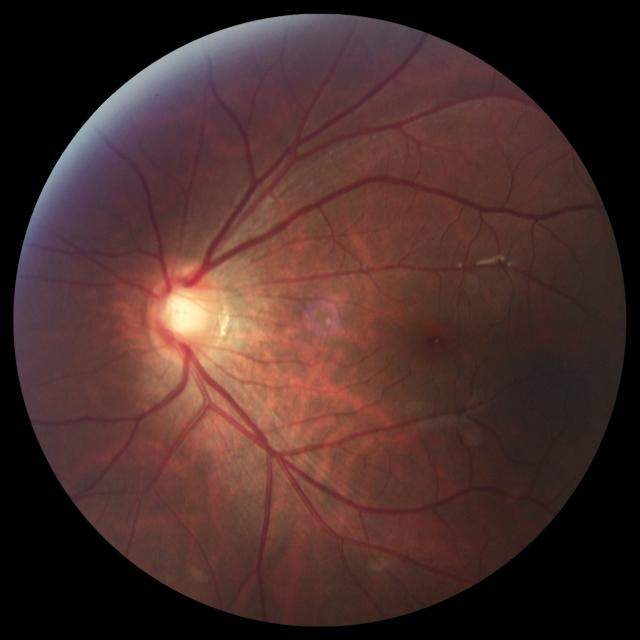OC: (161, 286, 206, 340)
OD: (148, 262, 220, 362)
